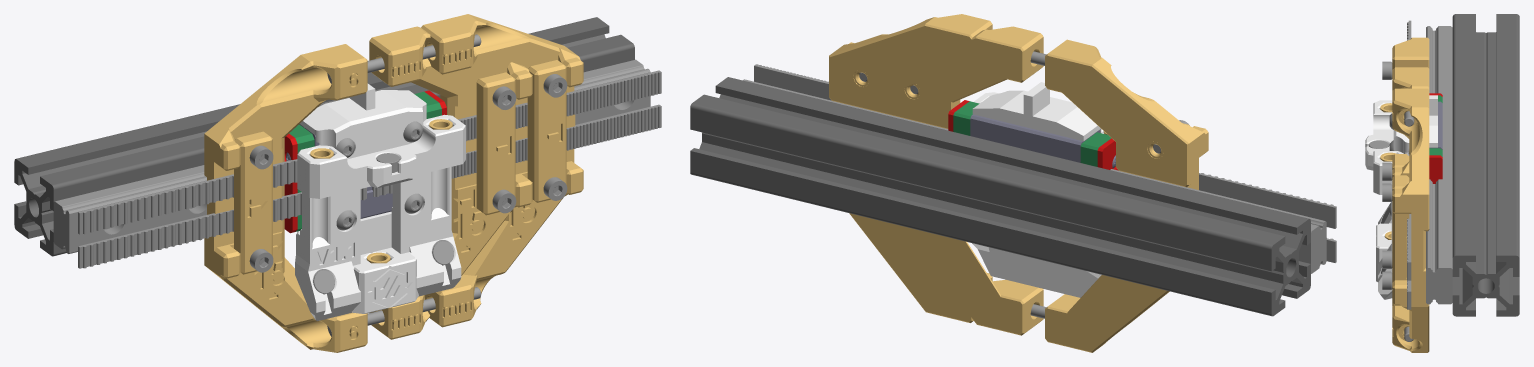
The model's file is Printed_Shuttle_Install.glb.
3 views of the same model, side by side, from view 1: azimuth 30°, elevation 25°; view 2: azimuth 150°, elevation 25°; view 3: azimuth 270°, elevation 25° (orthographic). The views are drawn at different scales.
Parts seen in each view (by area): view 1: Shuttle MGN12, Block Left, Extrusion, Block Right Open, Block Right, SOLID, Clip Right, Belts Left001, Clip Right Open, Belts Left, Clip Left, Belts Right Open (+6 smaller); view 2: Extrusion, Block Left, Block Right Open, Block Right, Shuttle MGN12, Belts Left, PRODUCT_NAME_1, SOLID, Belts Right Open001, PRODUCT_NAME_2, PRODUCT_NAME_3; view 3: Extrusion, Block Right Open, SOLID, Shuttle MGN12, Clip Right Open, Block Left, Block Right, PRODUCT_NAME_5, Belts Right Open001, PRODUCT_NAME_1, Clip Right, M3x10 SHCS (+6 smaller).
Boxes of the visible parts, bbox=[...] form: Shuttle MGN12: bbox=[295, 83, 465, 321]; Block Left: bbox=[204, 44, 367, 352]; Extrusion: bbox=[14, 17, 634, 256]; Block Right Open: bbox=[421, 14, 583, 327]; Block Right: bbox=[369, 26, 532, 339]; SOLID: bbox=[53, 59, 650, 253]; Clip Right: bbox=[476, 72, 515, 215]; Belts Left001: bbox=[78, 187, 366, 268]; Clip Right Open: bbox=[527, 60, 566, 202]; Belts Left: bbox=[78, 159, 297, 234]; Clip Left: bbox=[234, 131, 272, 274]; Belts Right Open: bbox=[454, 104, 661, 177]; Extrusion: bbox=[690, 77, 1310, 316]; Block Left: bbox=[1045, 39, 1208, 352]; Block Right Open: bbox=[829, 14, 992, 322]; Block Right: bbox=[880, 26, 1043, 335]; Shuttle MGN12: bbox=[972, 82, 1103, 297]; Belts Left: bbox=[1199, 173, 1336, 228]; PRODUCT_NAME_1: bbox=[970, 114, 1100, 162]; SOLID: bbox=[743, 79, 1326, 273]; Belts Right Open001: bbox=[754, 64, 831, 100]; PRODUCT_NAME_2: bbox=[1080, 132, 1111, 166]; PRODUCT_NAME_3: bbox=[953, 101, 979, 135]; Extrusion: bbox=[1452, 14, 1519, 316]; Block Right Open: bbox=[1392, 88, 1429, 352]; SOLID: bbox=[1426, 26, 1452, 304]; Shuttle MGN12: bbox=[1365, 95, 1437, 299]; Clip Right Open: bbox=[1392, 175, 1409, 282]; Block Left: bbox=[1392, 37, 1429, 69]; Block Right: bbox=[1392, 67, 1429, 305]; PRODUCT_NAME_5: bbox=[1429, 155, 1442, 183]; Belts Right Open001: bbox=[1407, 214, 1411, 280]; PRODUCT_NAME_1: bbox=[1429, 101, 1442, 149]; Clip Right: bbox=[1392, 154, 1409, 169]; M3x10 SHCS: bbox=[1382, 61, 1392, 79].
Size of the model in its own units: 0.1709 by 0.081 by 0.0461.
